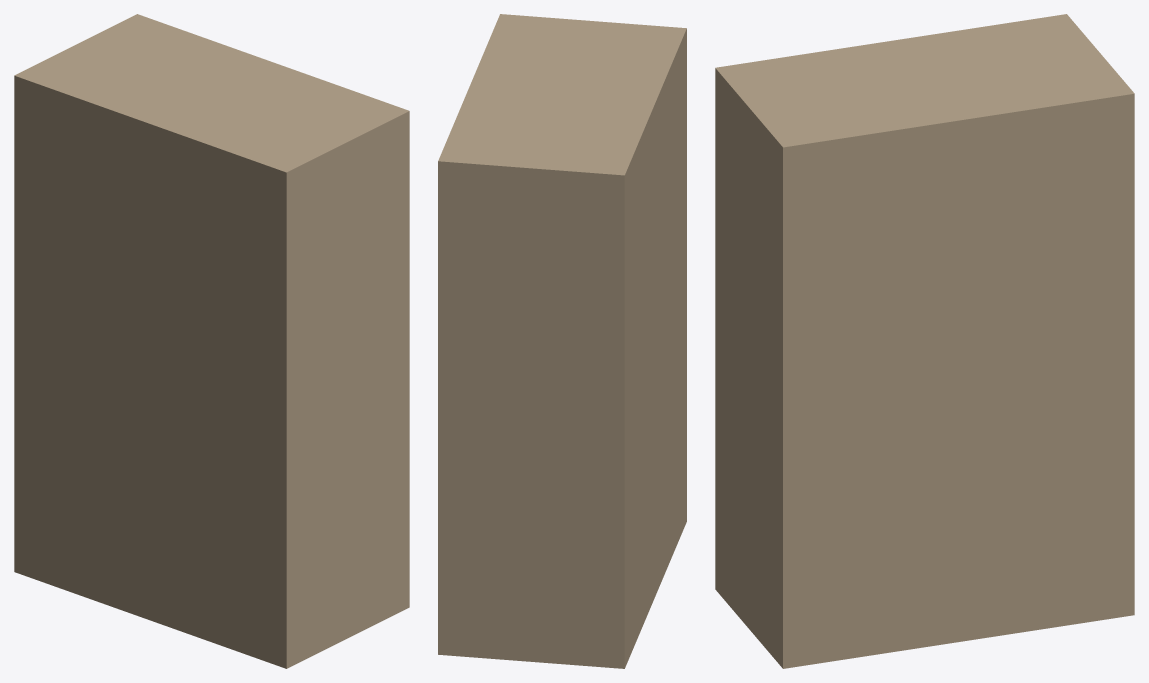
Rendered from bld_107639274.dae.
The picture shows the model from 3 angles, left to right: view 1: azimuth 30°, elevation 25°; view 2: azimuth 150°, elevation 25°; view 3: azimuth 270°, elevation 25°; orthographic projection. The views are drawn at different scales.
Parts seen in each view (by area): view 1: bld_107639274; view 2: bld_107639274; view 3: bld_107639274.
Part boxes in pixels (x1,y1,x2,y2): bld_107639274: (14,14,409,668); bld_107639274: (438,14,686,668); bld_107639274: (715,14,1134,668).
Bounding box in the file's own units: 4.39 × 5.83 × 8.
